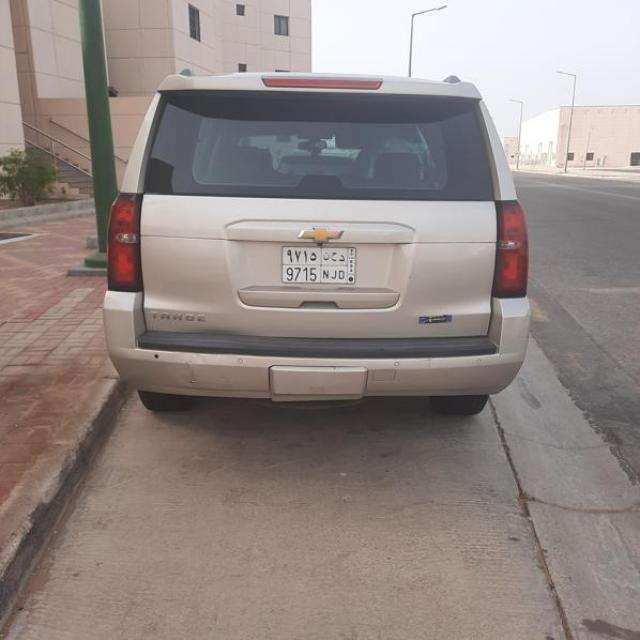license_plate: (281, 245, 358, 285)
